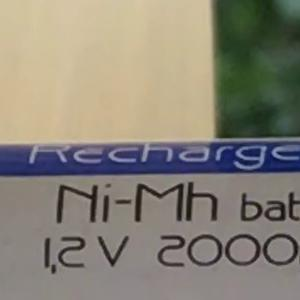NI-MH: (46, 172, 223, 234)
